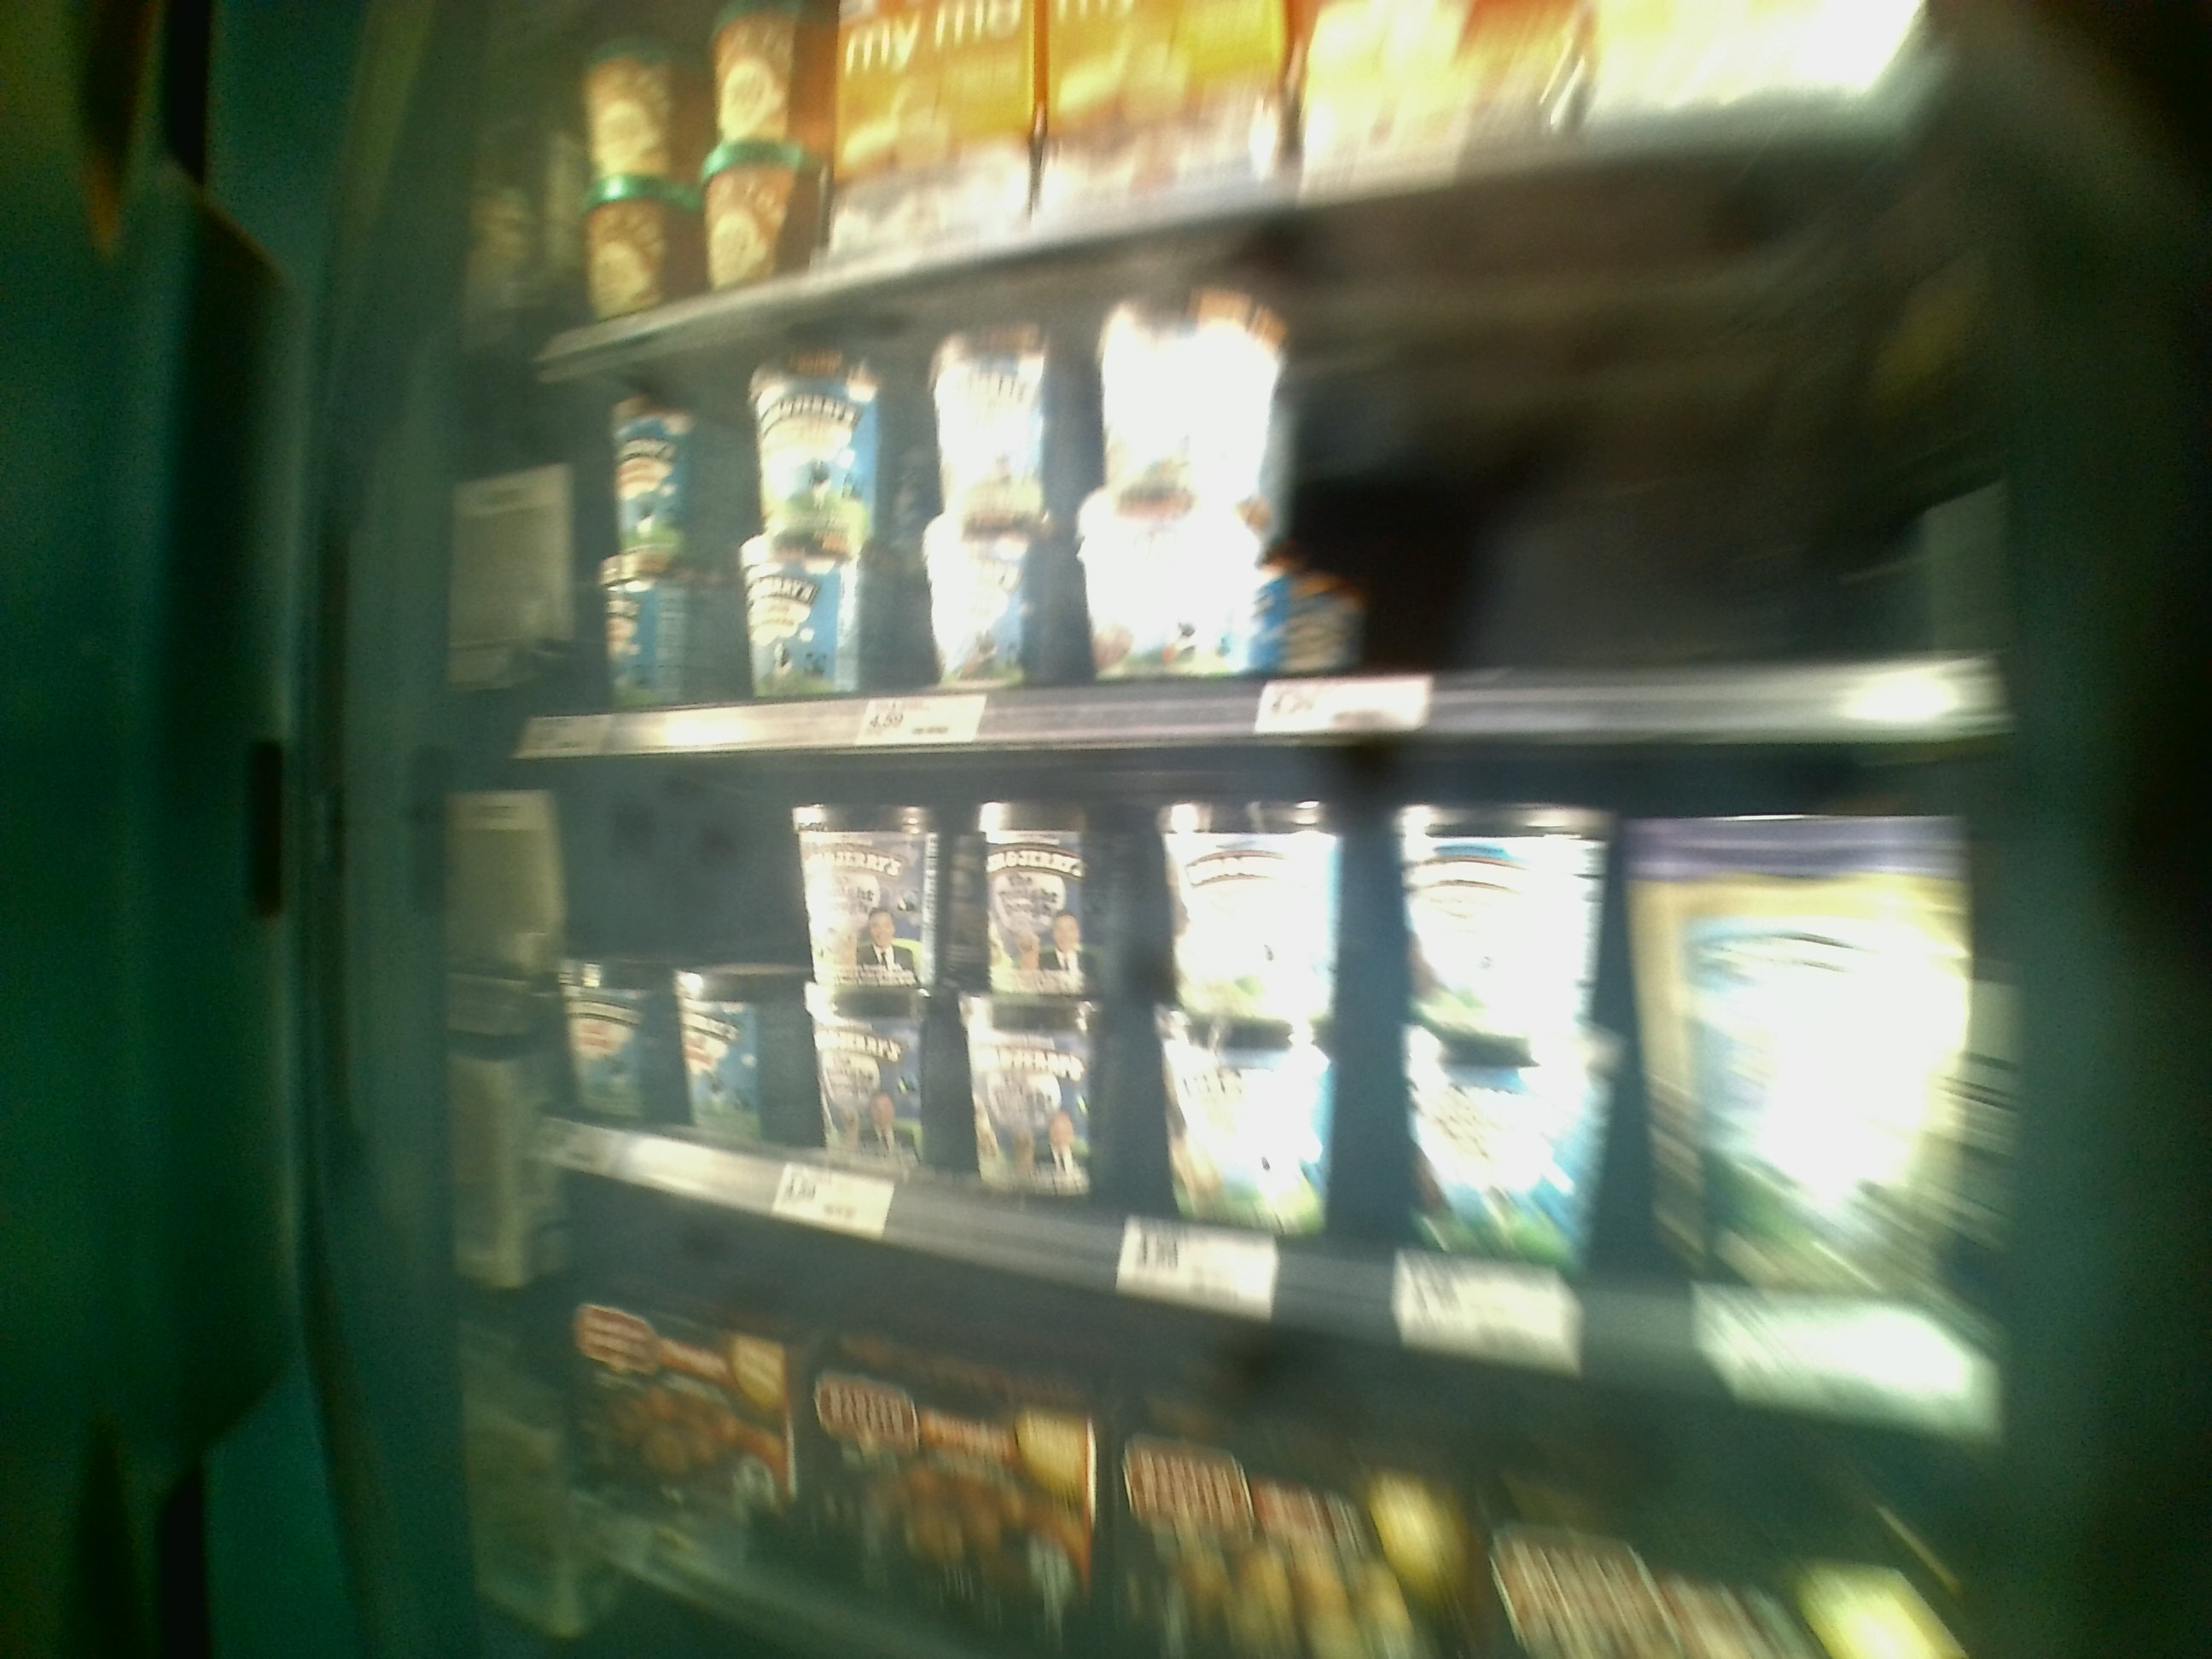shelf: (552, 730, 1975, 1373), (575, 310, 1954, 708)
